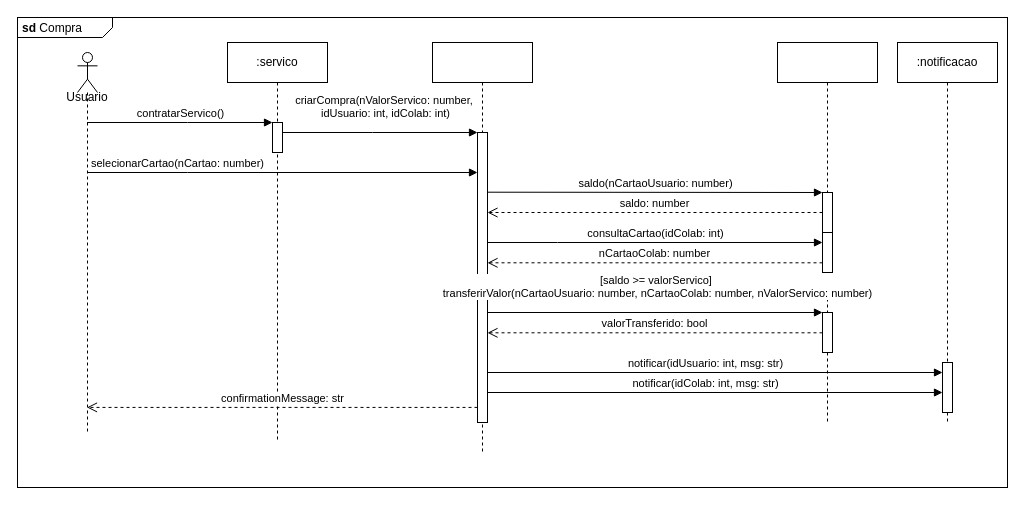
Image size: 1025x505. Some labels were removed from this diagram. Each missing label, with the centre of its shape:
":cartao_credito" goes at pixel 827 232.
":compra" goes at pixel 482 247.
